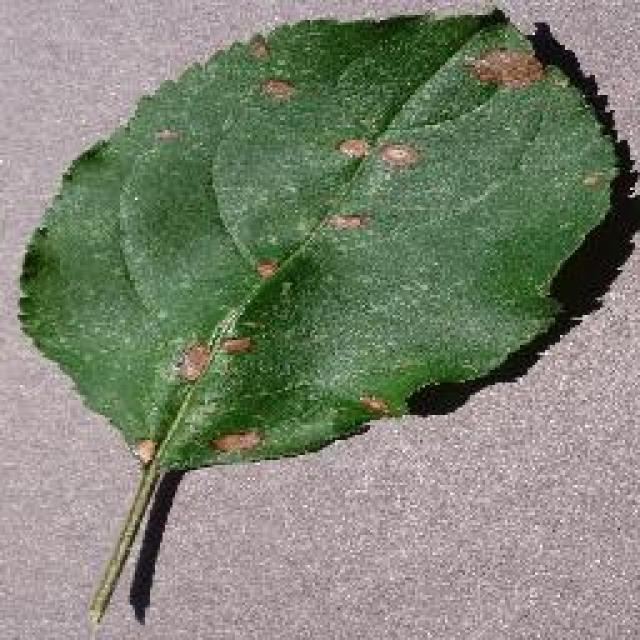apple black rot: (15, 5, 637, 635)
